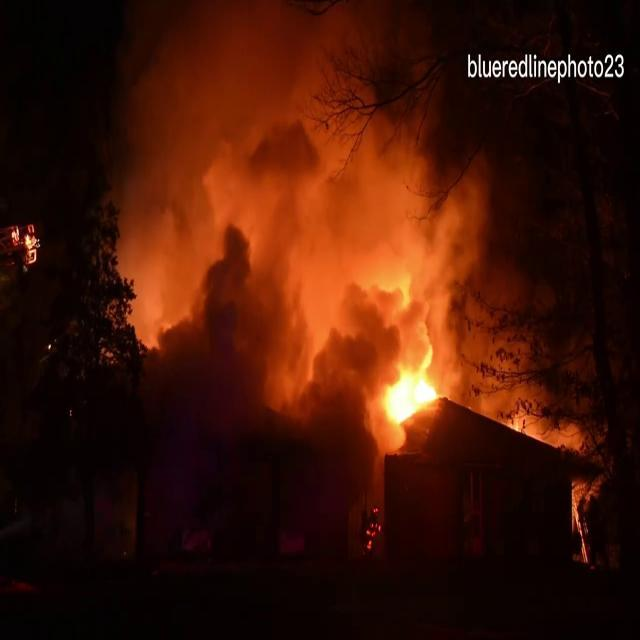Fire: (340, 244, 458, 442)
Smoke: (91, 12, 511, 334)
